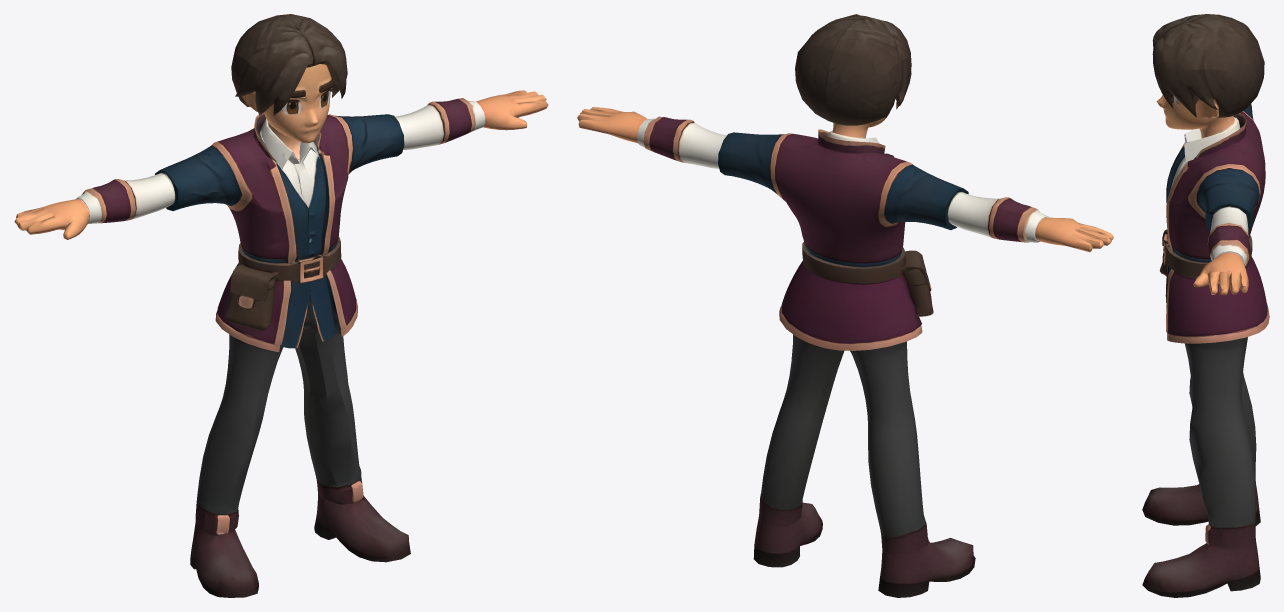
Rendered from male_special.obj.
3 renders of one model, left to right at view 1: azimuth 30°, elevation 25°; view 2: azimuth 150°, elevation 25°; view 3: azimuth 270°, elevation 25°, orthographic.
Parts seen in each view (by area): view 1: model; view 2: model; view 3: model.
Part boxes in pixels (x1,y1,x2,y2): model: (14, 14, 548, 597); model: (577, 14, 1113, 597); model: (1142, 14, 1269, 597).
Size of the model in its own units: 1.76 by 1.72 by 0.3728.
Materials: 1 (1 with a texture image).
